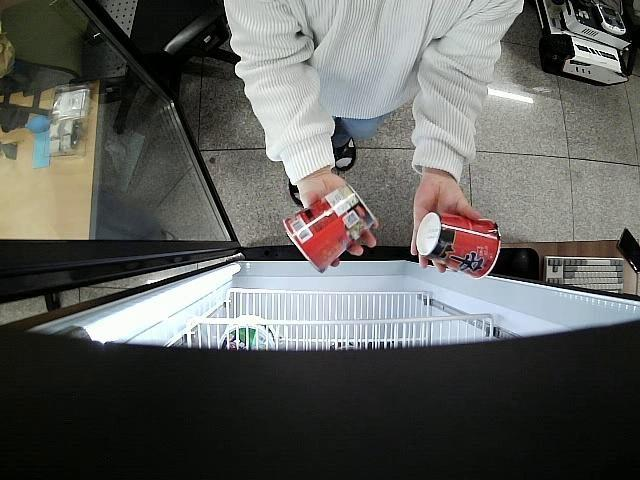02_shinRamen_S: (280, 184, 380, 274), (416, 210, 502, 280)
